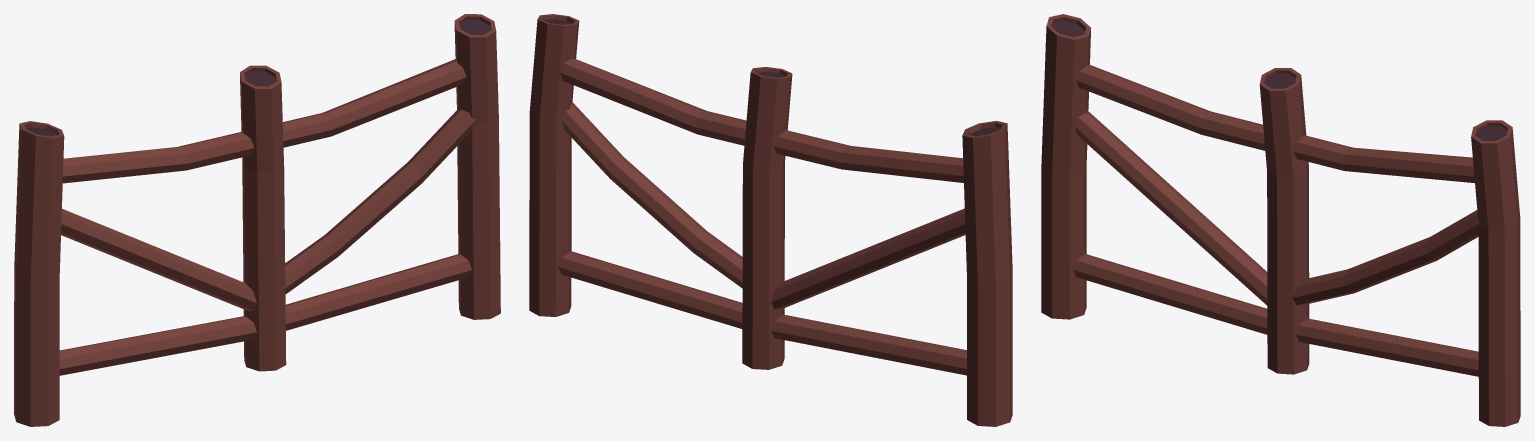
Rendered from Fence_Wooden_03.fbx.
The picture shows the model from 3 angles, left to right: view 1: azimuth 30°, elevation 25°; view 2: azimuth 150°, elevation 25°; view 3: azimuth 330°, elevation 25°; orthographic projection.
Visible parts, largest first — view 1: Fence_Wooden_03; view 2: Fence_Wooden_03; view 3: Fence_Wooden_03.
Boxes of the visible parts, x1,y1,x2,y2 form: Fence_Wooden_03: (14, 14, 500, 426); Fence_Wooden_03: (529, 14, 1012, 426); Fence_Wooden_03: (1041, 14, 1520, 426).
Size of the model in its own units: 217 by 126 by 20.48.
